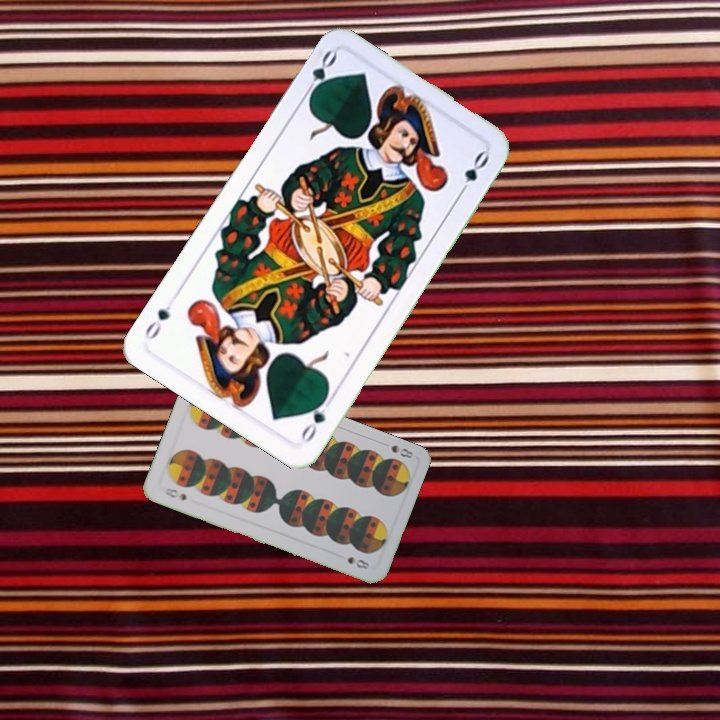GO: (299, 46, 340, 103), (297, 390, 336, 445)
S8: (377, 438, 416, 461), (160, 484, 189, 503)
